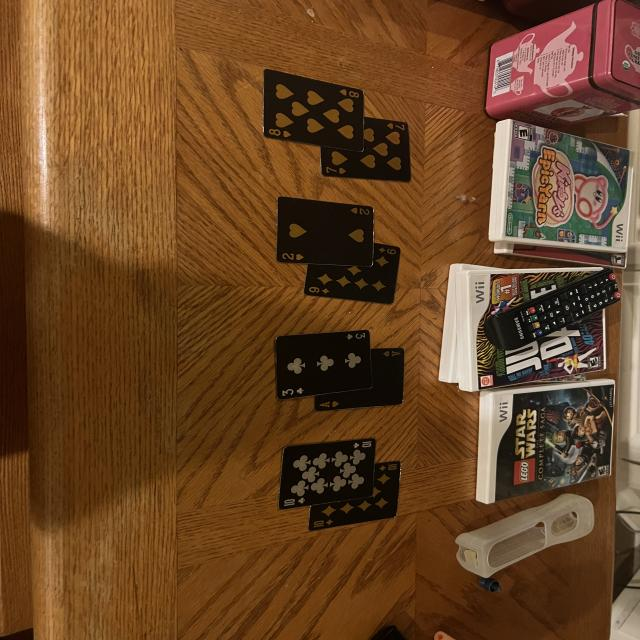10C: (351, 440, 373, 451), (282, 498, 306, 507)
10D: (314, 520, 334, 528), (379, 464, 398, 471)
2H: (350, 206, 372, 215), (281, 253, 303, 261)
3C: (282, 386, 306, 396), (346, 331, 368, 341)
4H: (382, 350, 402, 358), (320, 402, 340, 407)
7H: (323, 164, 353, 177), (388, 121, 406, 131)
8H: (268, 126, 294, 138), (338, 86, 363, 98)
9D: (378, 244, 399, 255), (310, 286, 332, 295)
